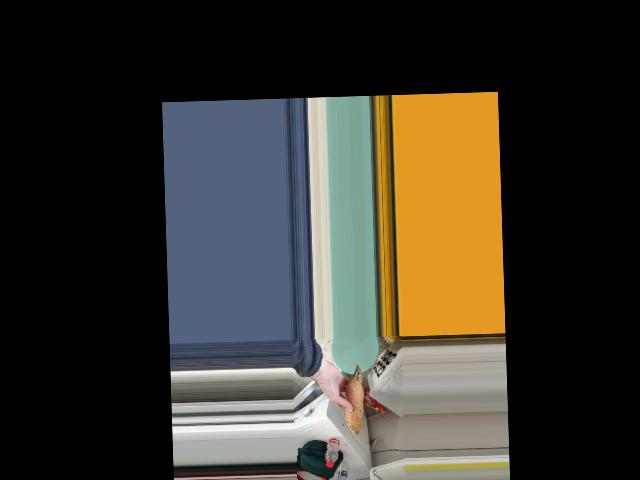sweet_potato: (339, 365, 364, 426)
